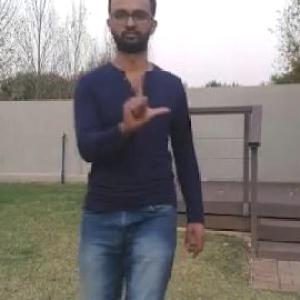land_hand: (116, 68, 172, 133)
